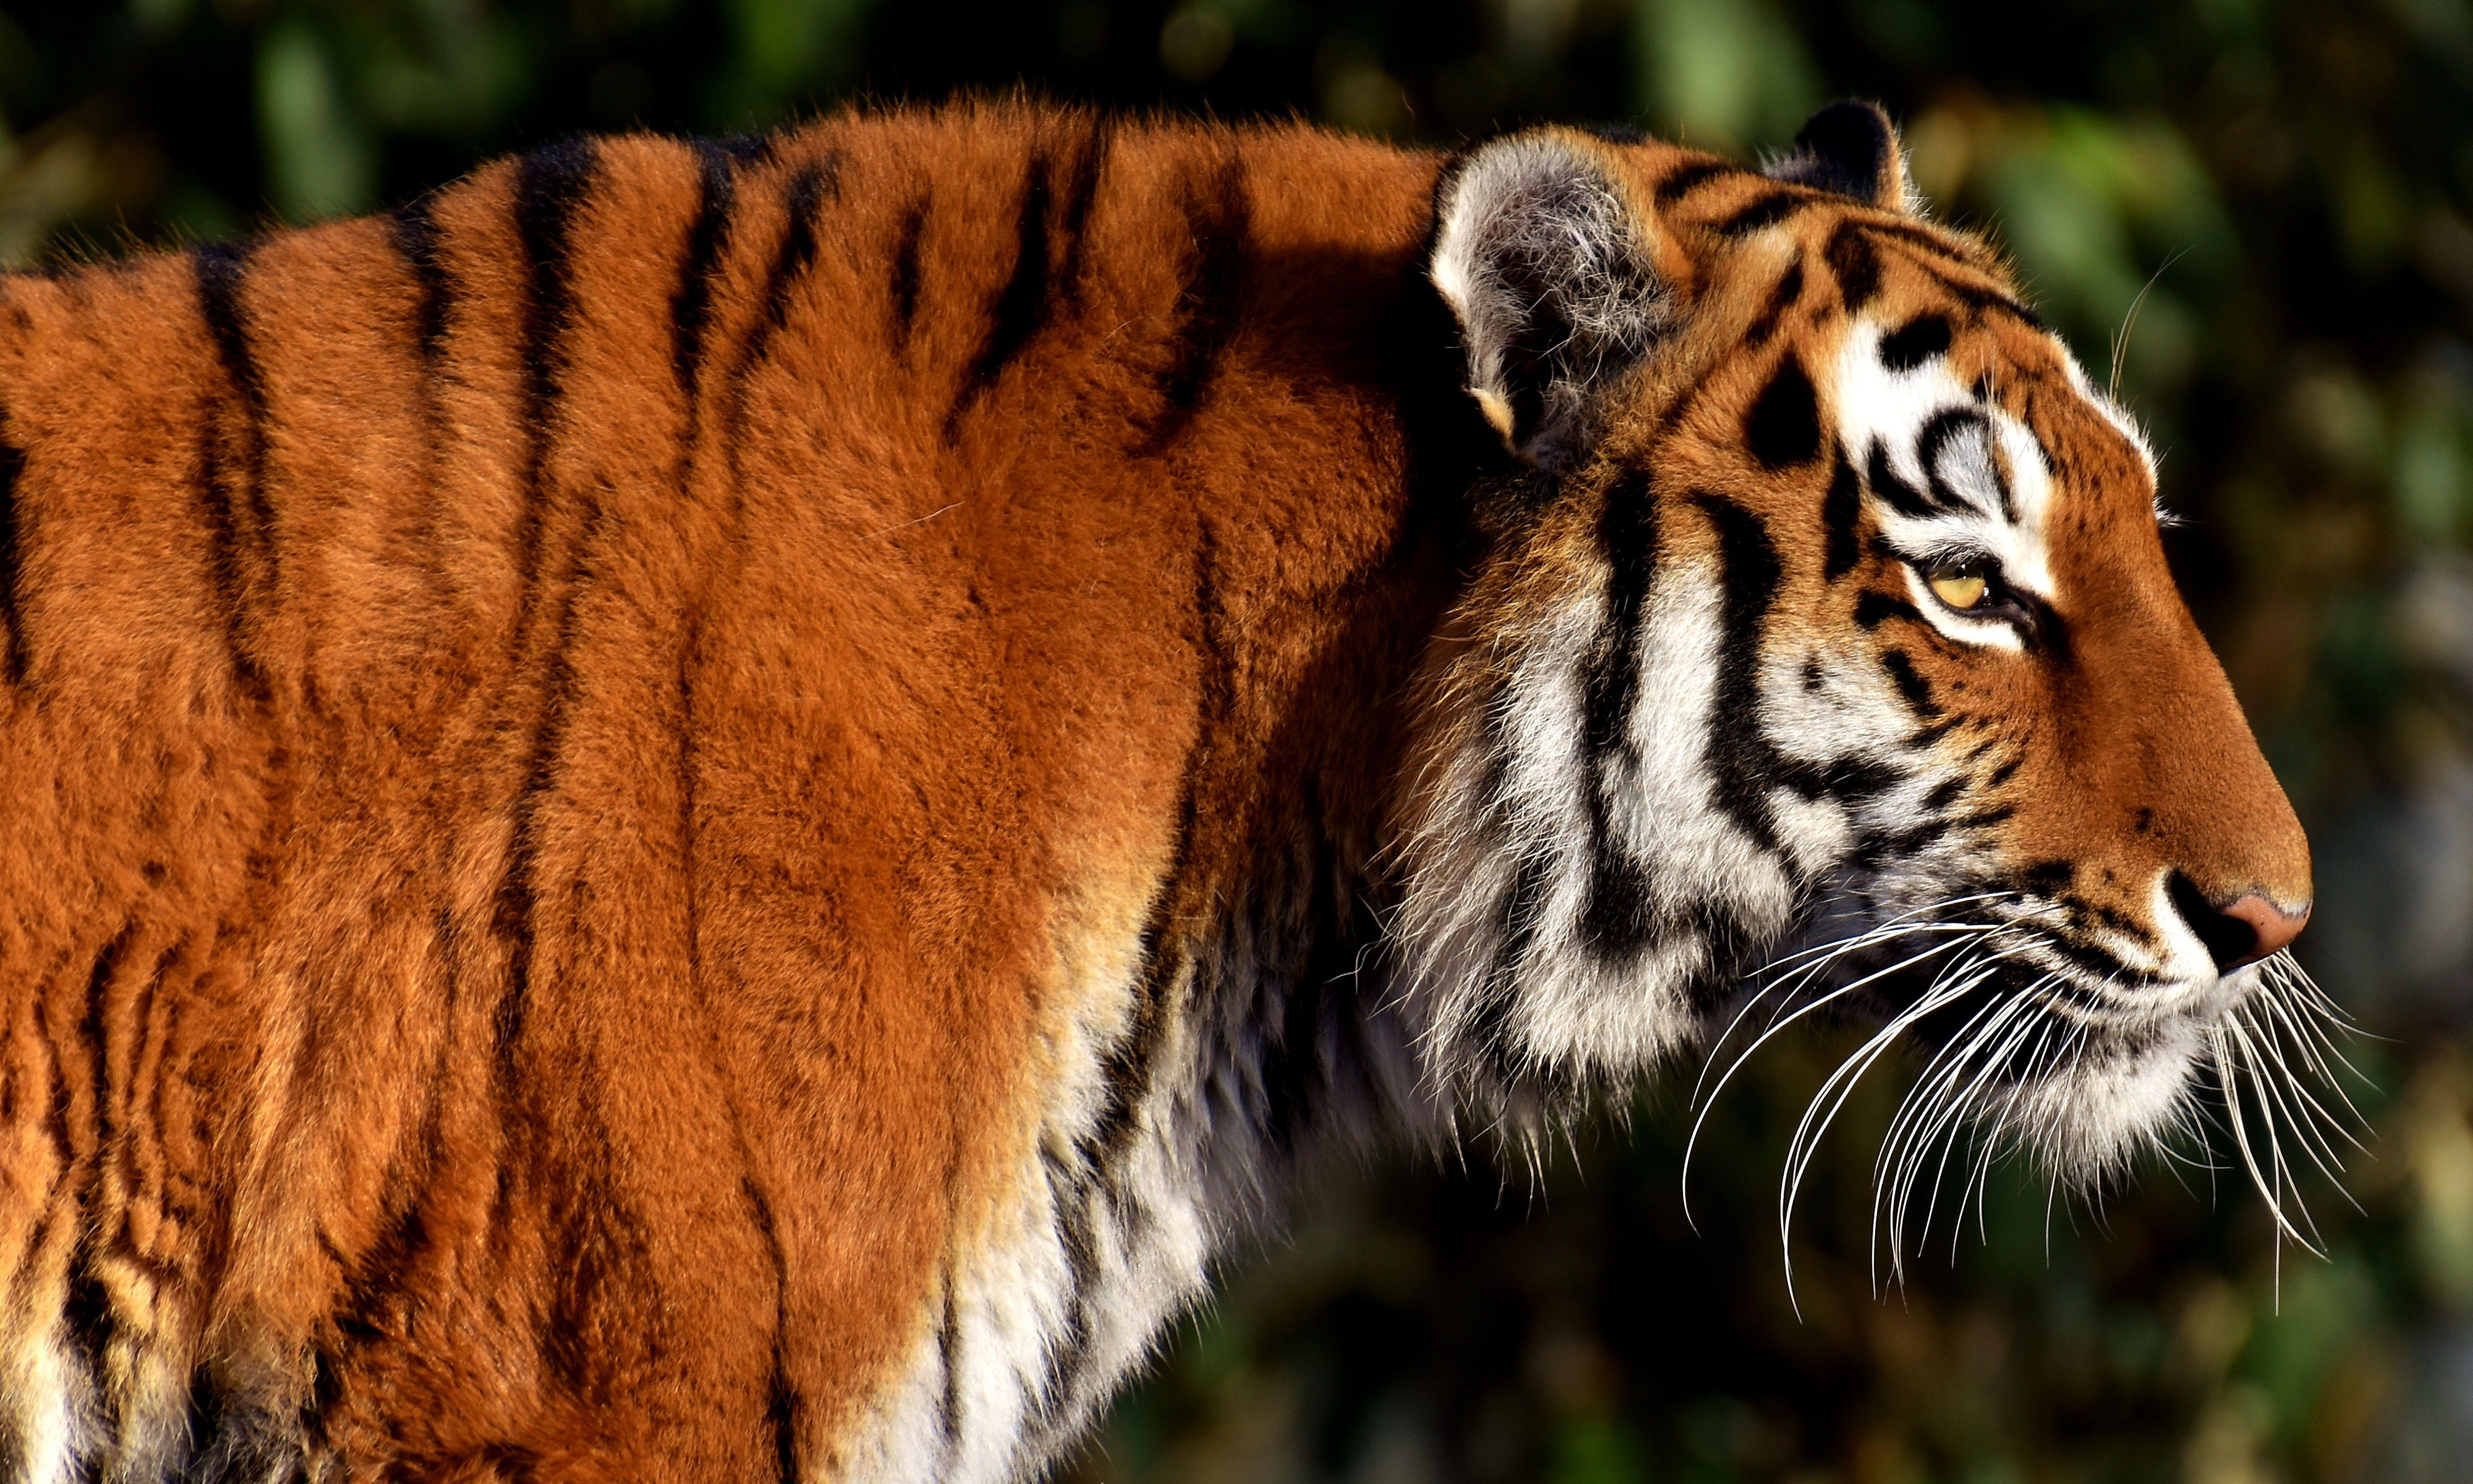tiger: (101, 97, 2298, 1360)
